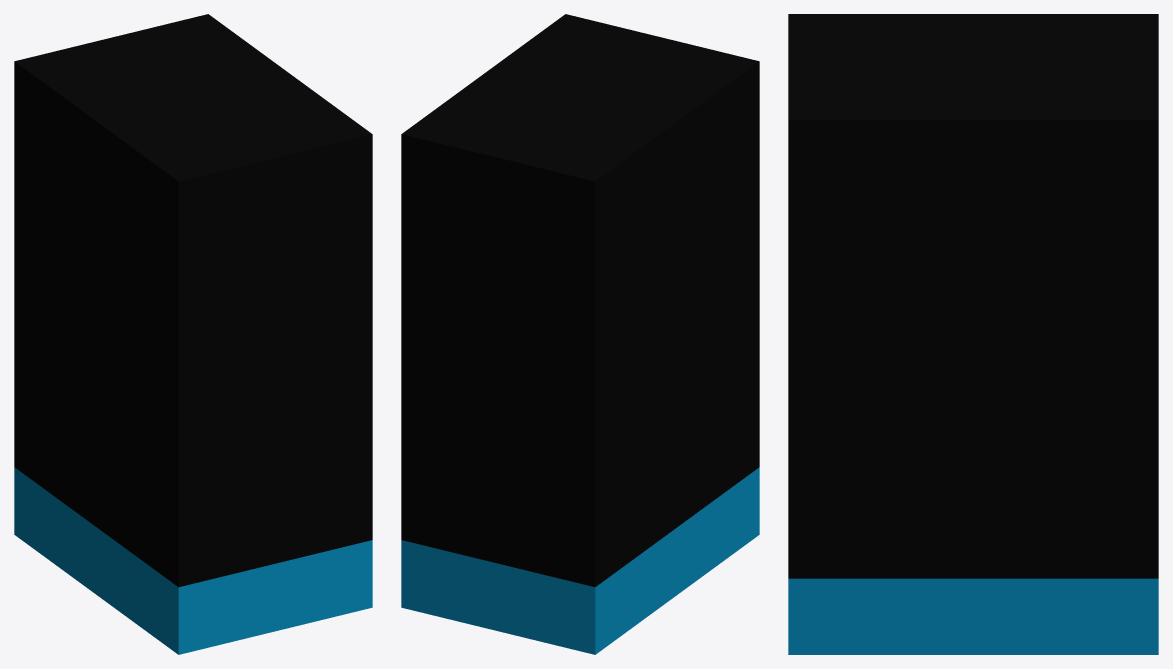
Rendered from woodenman-2.obj.
3 renders of one model, left to right at view 1: azimuth 30°, elevation 25°; view 2: azimuth 150°, elevation 25°; view 3: azimuth 270°, elevation 25°, orthographic. The views are drawn at different scales.
Bounding box in the file's own units: 1.5 × 3.5 × 2.2.
1 material, 1 textured.
